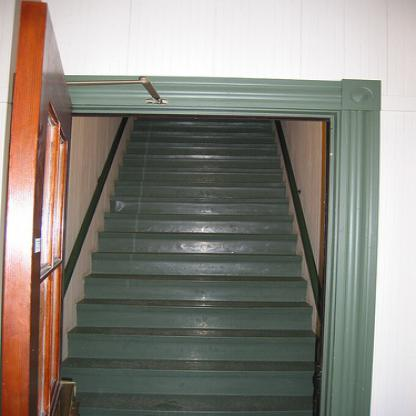stairs: (107, 201, 288, 410)
